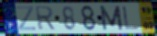8: (80, 4, 98, 32), (62, 6, 77, 31)
L: (122, 6, 140, 31)
M: (98, 5, 125, 32)
R: (34, 6, 57, 32)
Z: (15, 6, 37, 32)
